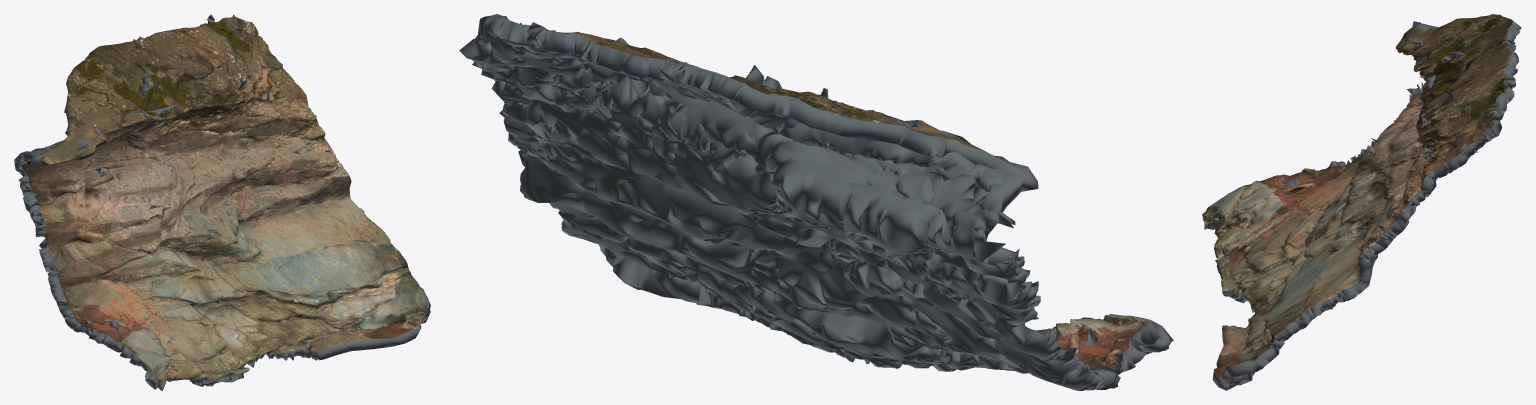
File: cliff-solid-v2.glb
3 renders of one model, left to right at view 1: azimuth 30°, elevation 25°; view 2: azimuth 150°, elevation 25°; view 3: azimuth 270°, elevation 25°, orthographic. The views are drawn at different scales.
Visible parts, largest first — view 1: rock_face_01; view 2: rock_face_01; view 3: rock_face_01.
Part boxes in pixels (x1,y1,x2,y2): rock_face_01: (14, 14, 430, 390); rock_face_01: (459, 14, 1173, 390); rock_face_01: (1202, 14, 1521, 390).
Size of the model in its own units: 5.12 by 3.77 by 3.93.
2 materials, 1 textured.
